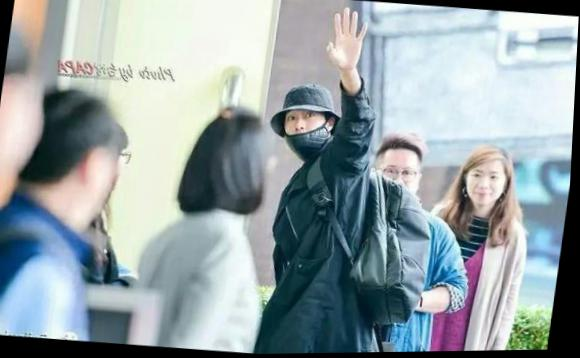NONE: (377, 162, 422, 205), (467, 165, 508, 208)
WRONG: (281, 104, 339, 160)
